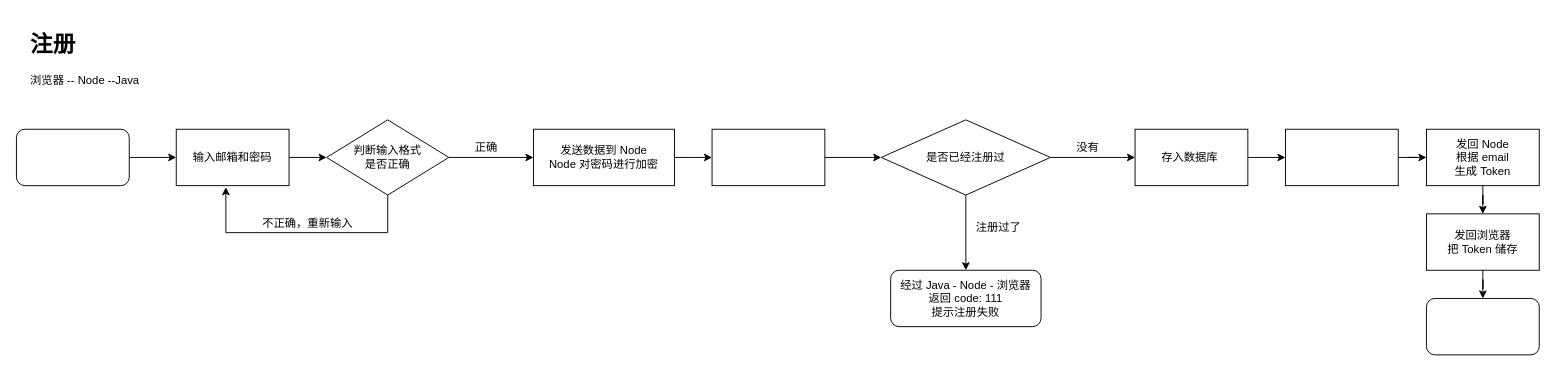
The diagram is 1556 pixels wide and 371 high, and some of its shapes have lost their labels. The shapes that lost their labels are listed below. From the top down, each one's centre as x and y in pixels, then its label:
the point at 72,157: 打开浏览器 进行注册
the point at 768,157: Node 转发数据到 Java
the point at 1341,157: code: 110
the point at 1482,326: 返回 code: 110 注册成功 跳转用户页
